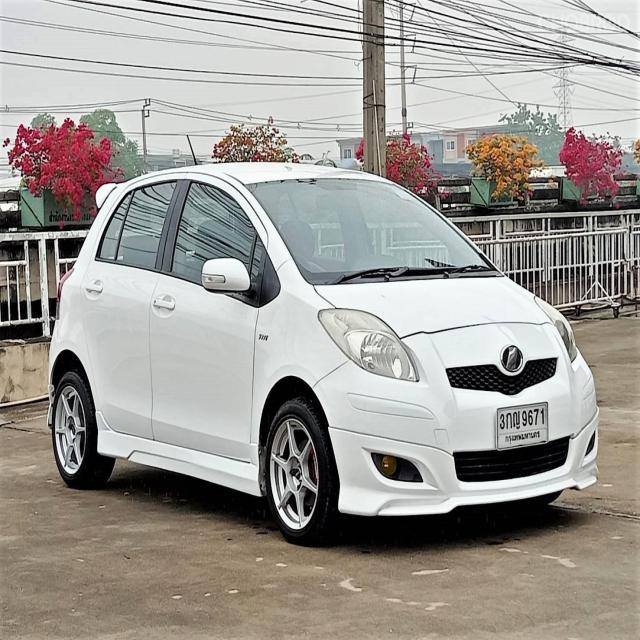license_plate: (493, 400, 552, 449)
